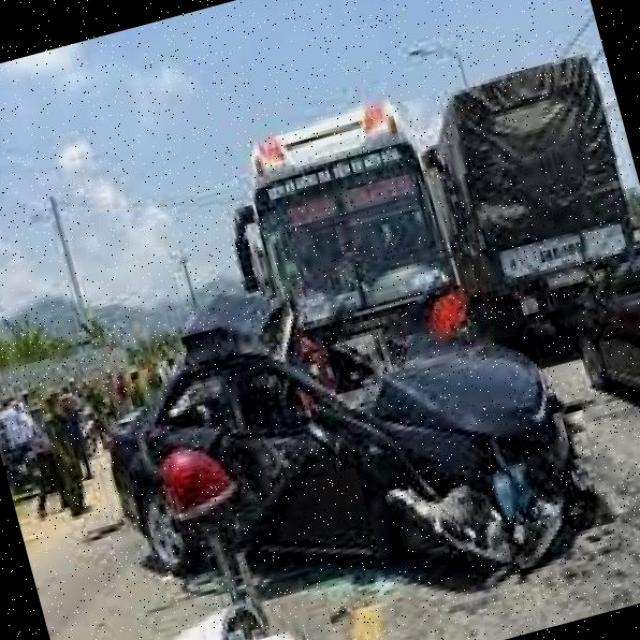accident: (80, 208, 640, 639)
